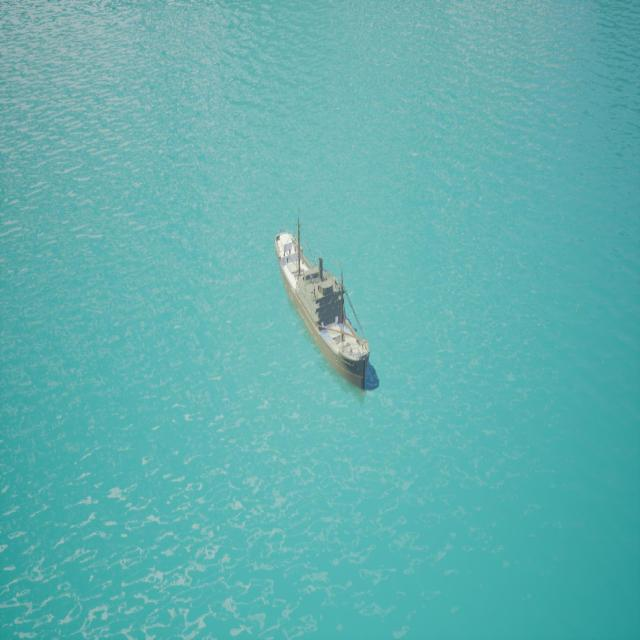fishing ship: (274, 227, 374, 397)
